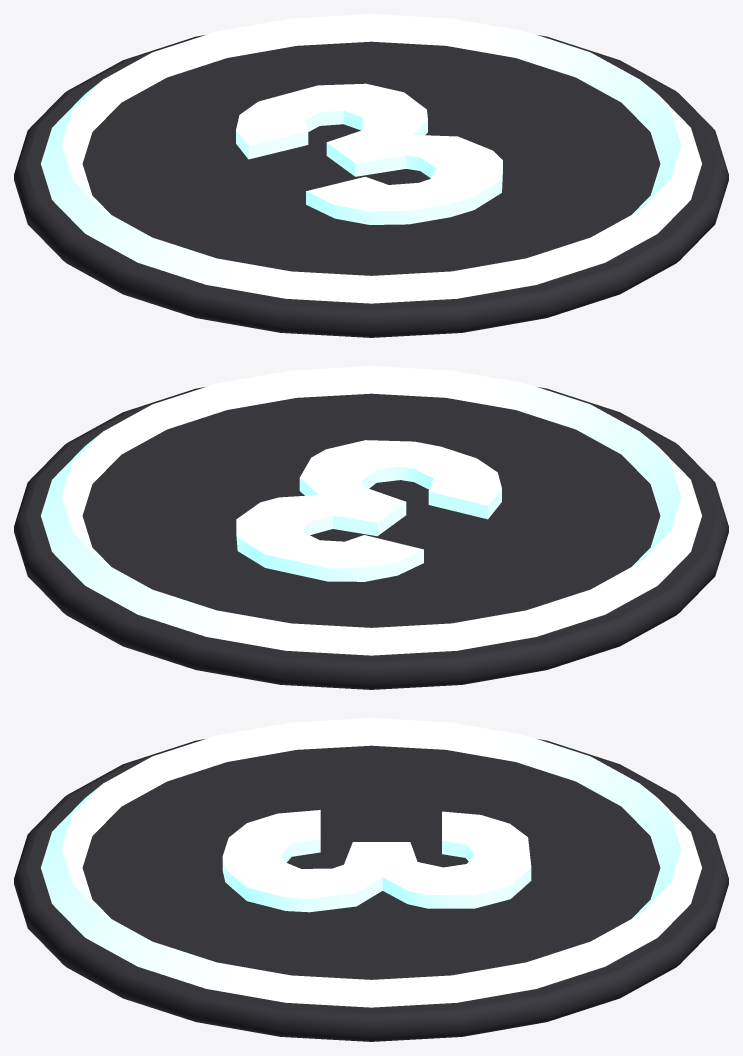
File: kr_joinpad_3.glb
3 renders of one model, top to bottom at view 1: azimuth 30°, elevation 25°; view 2: azimuth 150°, elevation 25°; view 3: azimuth 270°, elevation 25°, orthographic.
Visible parts, largest first — view 1: vc_m0_r4, kr_joinpad_3_neonblue; view 2: vc_m0_r4, kr_joinpad_3_neonblue; view 3: vc_m0_r4, kr_joinpad_3_neonblue.
Part boxes in pixels (x1,y1,x2,y2): vc_m0_r4: (14, 35, 728, 337); kr_joinpad_3_neonblue: (41, 14, 701, 303); vc_m0_r4: (14, 387, 728, 689); kr_joinpad_3_neonblue: (41, 366, 701, 655); vc_m0_r4: (14, 739, 728, 1041); kr_joinpad_3_neonblue: (41, 718, 701, 1007).
Bounding box in the file's own units: 1.2 × 0.085 × 1.2.
